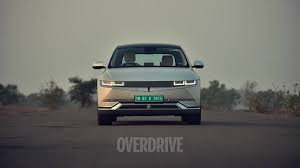Honda Ioniq: (88, 36, 208, 132)
